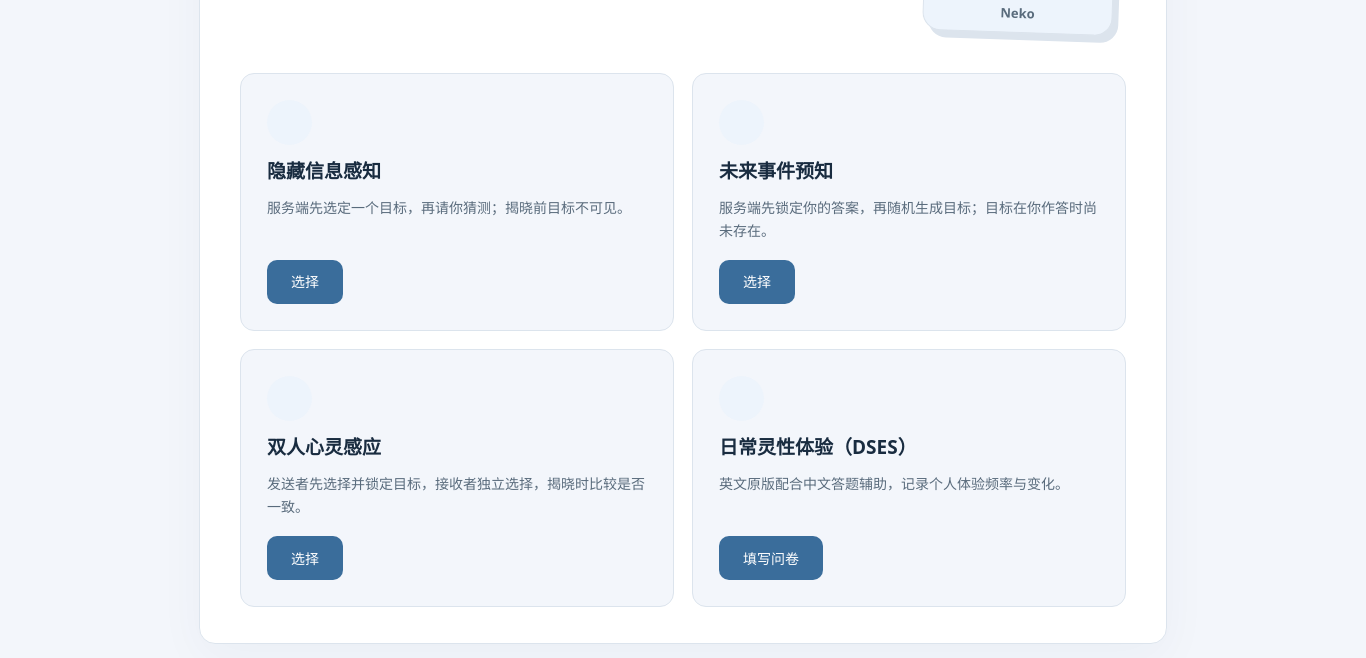
Scenario: module creation › creates a hidden-information solo session with 30 rounds by default
(page scrolled)
Click the button "选择" below "服务端先选定一个目标，再请你猜测；揭晓前目标不可见。": [305, 282] box [267,260,343,304]
(page scrolled)
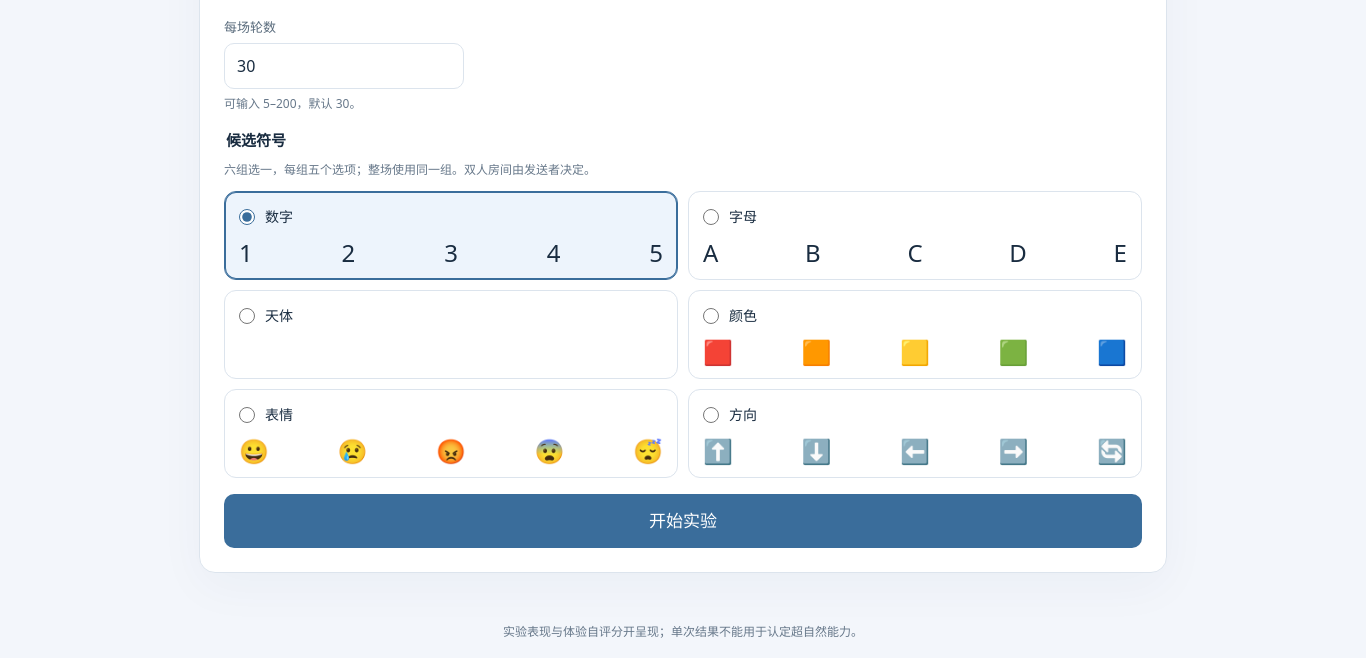
Click the button "开始实验": [683, 521] box [224,494,1142,548]
(page scrolled)
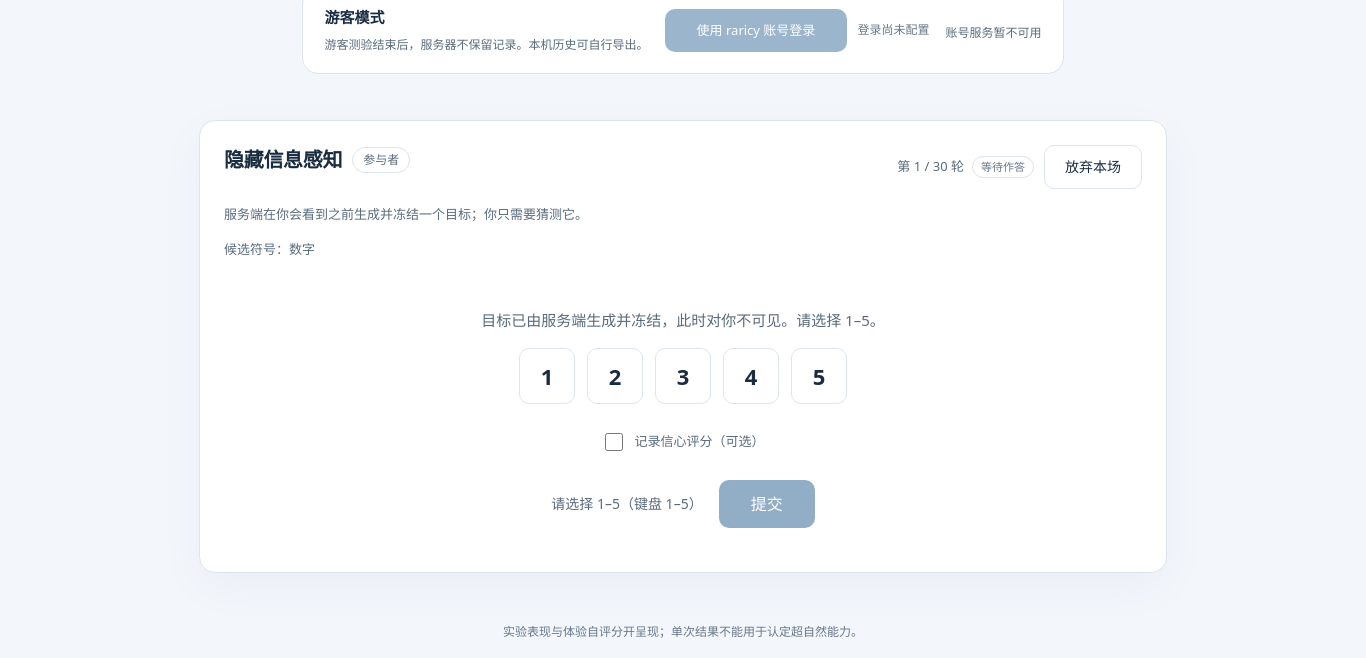
Result: the radio button labelled "1" is shown at [519,348,575,404]
Result: the text "目标已由服务端生成并冻结，此时对你不可见。请选择 1–5。" is shown at [481,308,885,332]
